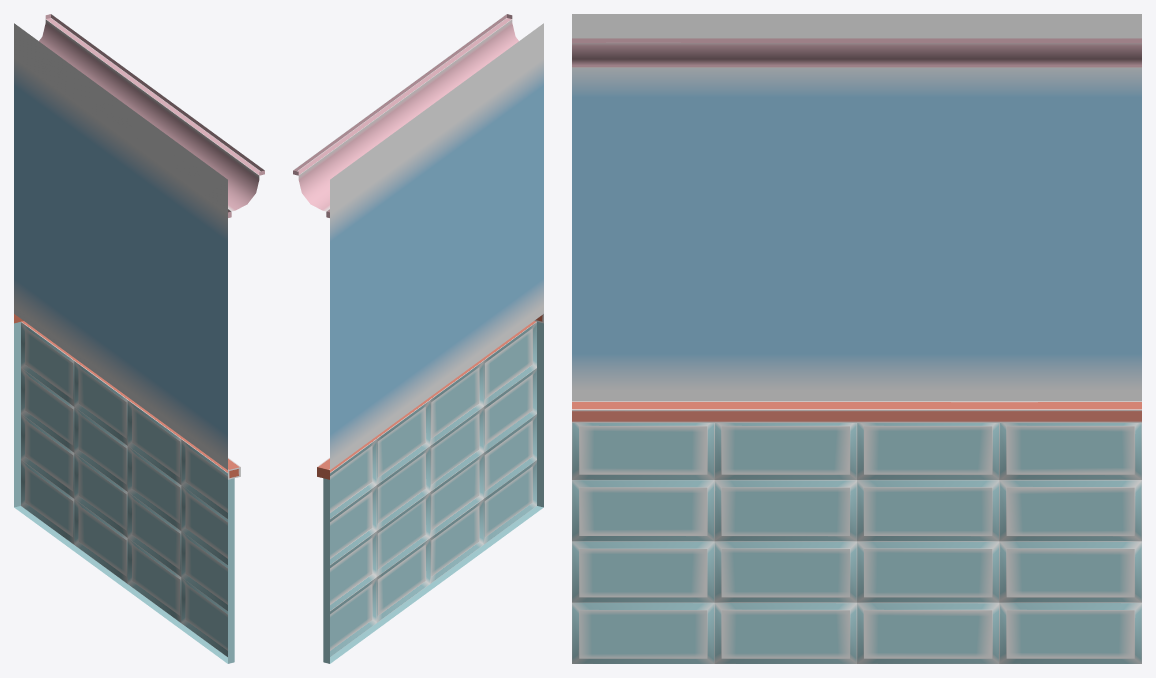
Rendered from Mur1.fbx.
The picture shows the model from 3 angles, left to right: view 1: azimuth 30°, elevation 25°; view 2: azimuth 150°, elevation 25°; view 3: azimuth 270°, elevation 25°; orthographic projection. The views are drawn at different scales.
Visible parts, largest first — view 1: Mur1; view 2: Mur1; view 3: Mur1.
Boxes of the visible parts, left/top/right/bottom form: Mur1: left=14, top=14, right=264, bottom=663; Mur1: left=293, top=14, right=543, bottom=663; Mur1: left=572, top=14, right=1141, bottom=663.
Size of the model in its own units: 20 by 200 by 250.
